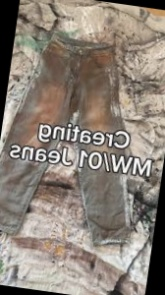earth: (79, 68, 117, 128), (39, 58, 69, 124)
